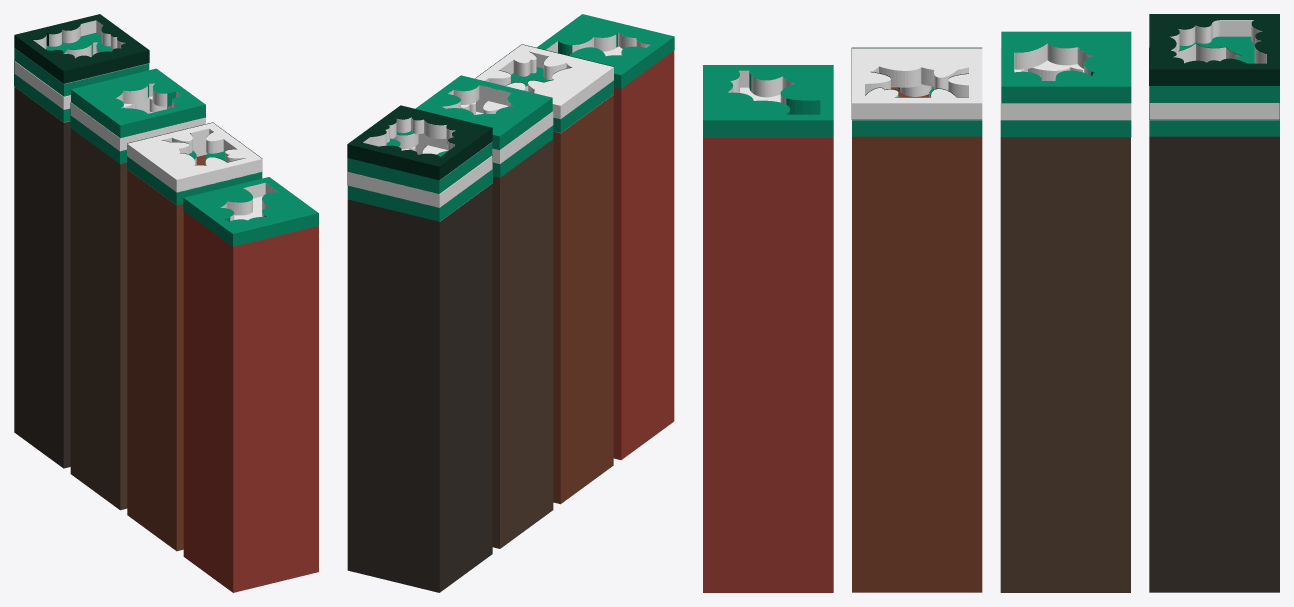
Rendered from 3D Modelle Biodiversität Teil I-1 Wald_Boden-D3.glb.
The picture shows the model from 3 angles, left to right: view 1: azimuth 30°, elevation 25°; view 2: azimuth 150°, elevation 25°; view 3: azimuth 270°, elevation 25°; orthographic projection. The views are drawn at different scales.
Visible parts, largest first — view 1: color_row_1, color_row_4, color_row_3, color_row_2, base_row_2, base_row_3, base_row_4, base_row_1; view 2: color_row_4, color_row_3, color_row_1, color_row_2, base_row_2, base_row_4, base_row_3, base_row_1; view 3: color_row_4, color_row_3, color_row_1, color_row_2, base_row_2, base_row_4, base_row_3, base_row_1.
Part boxes in pixels (<box>): color_row_1: <box>183,177,318,592</box>; color_row_4: <box>14,14,149,468</box>; color_row_3: <box>70,68,205,510</box>; color_row_2: <box>127,122,262,551</box>; base_row_2: <box>127,123,262,202</box>; base_row_3: <box>70,83,205,151</box>; base_row_4: <box>14,20,149,122</box>; base_row_1: <box>221,182,278,220</box>; color_row_4: <box>347,105,492,592</box>; color_row_3: <box>415,75,553,548</box>; color_row_1: <box>537,14,674,459</box>; color_row_2: <box>475,44,613,504</box>; base_row_2: <box>475,44,613,133</box>; base_row_4: <box>347,117,492,221</box>; base_row_3: <box>442,85,553,163</box>; base_row_1: <box>546,33,650,56</box>; color_row_4: <box>1149,14,1279,592</box>; color_row_3: <box>1000,31,1131,592</box>; color_row_1: <box>703,65,833,592</box>; color_row_2: <box>851,47,982,592</box>; base_row_2: <box>852,48,982,120</box>; base_row_4: <box>1149,20,1279,120</box>; base_row_3: <box>1000,43,1131,120</box>; base_row_1: <box>728,70,794,104</box>.
Bounding box in the file's own units: 0.1407 × 0.622 × 0.6205.
